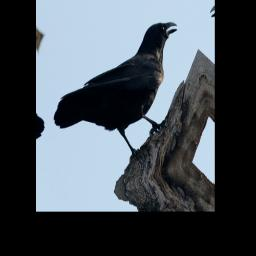Crow: (45, 14, 197, 187)
